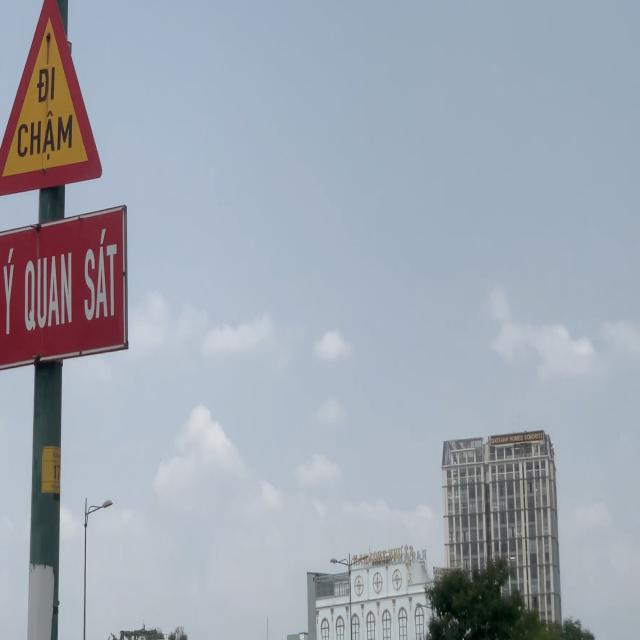Nguy hiem: (0, 0, 105, 202)
